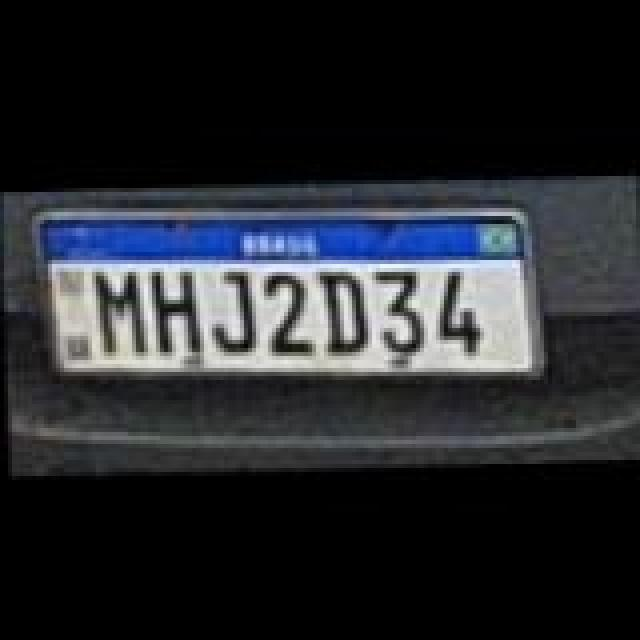2: (262, 266, 310, 350)
3: (378, 266, 426, 350)
4: (434, 264, 482, 348)
D: (316, 264, 368, 348)
H: (148, 264, 200, 352)
J: (208, 268, 260, 352)
M: (96, 262, 148, 350)
